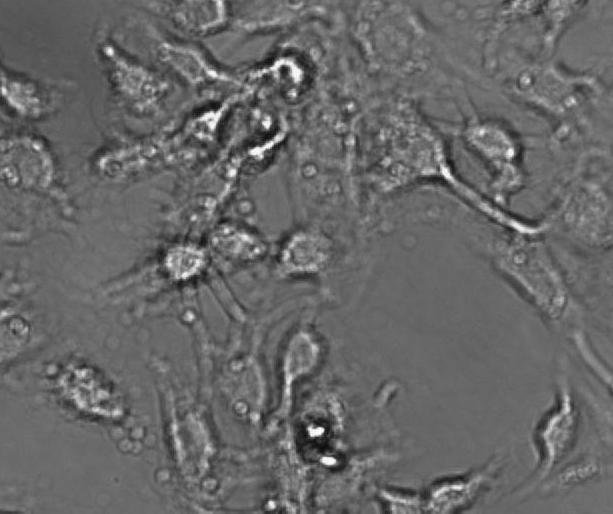Dead: (247, 48, 317, 104), (229, 118, 299, 172), (176, 92, 237, 150), (293, 413, 342, 446), (306, 444, 354, 476)
